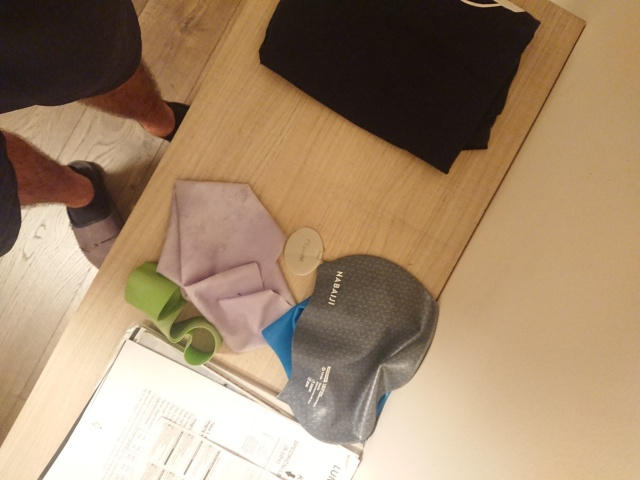Kotanyi Garlic Granules 70g: (282, 224, 326, 277)
